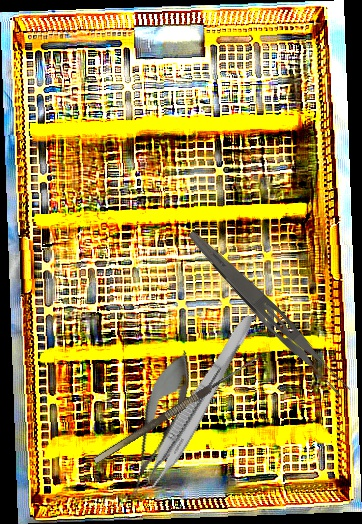Dressing Forceps: (180, 226, 355, 402)
Hook Surgical: (87, 343, 265, 465)
Micro Scissor: (115, 344, 202, 505)
Tissue Forceps: (132, 306, 258, 503)
